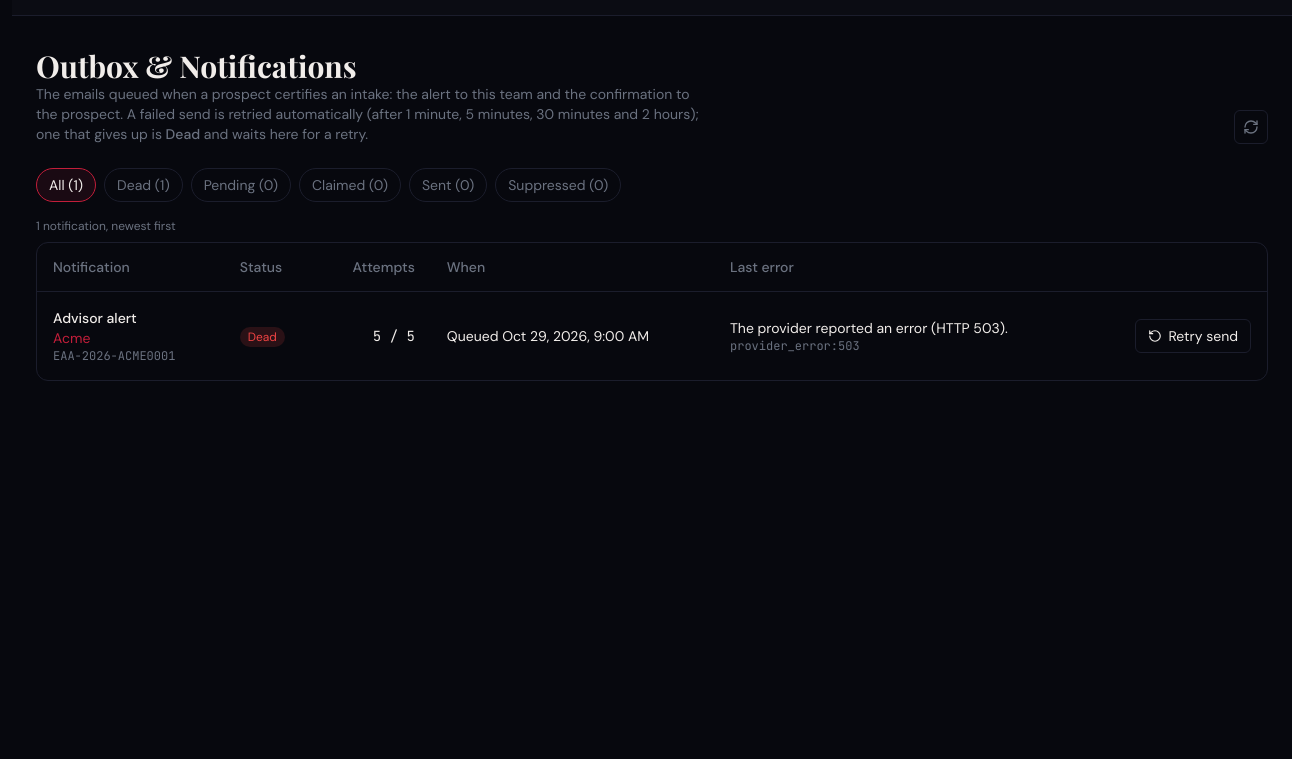
Test case: AdvisorOutboxPage › filters by dead, and keeps the filter in the URL
Check: the link "Acme" is shown, box [53,328,90,346]
Click the button "Dead (1)": x=143, y=185 [104,168,183,202]
(page scrolled)
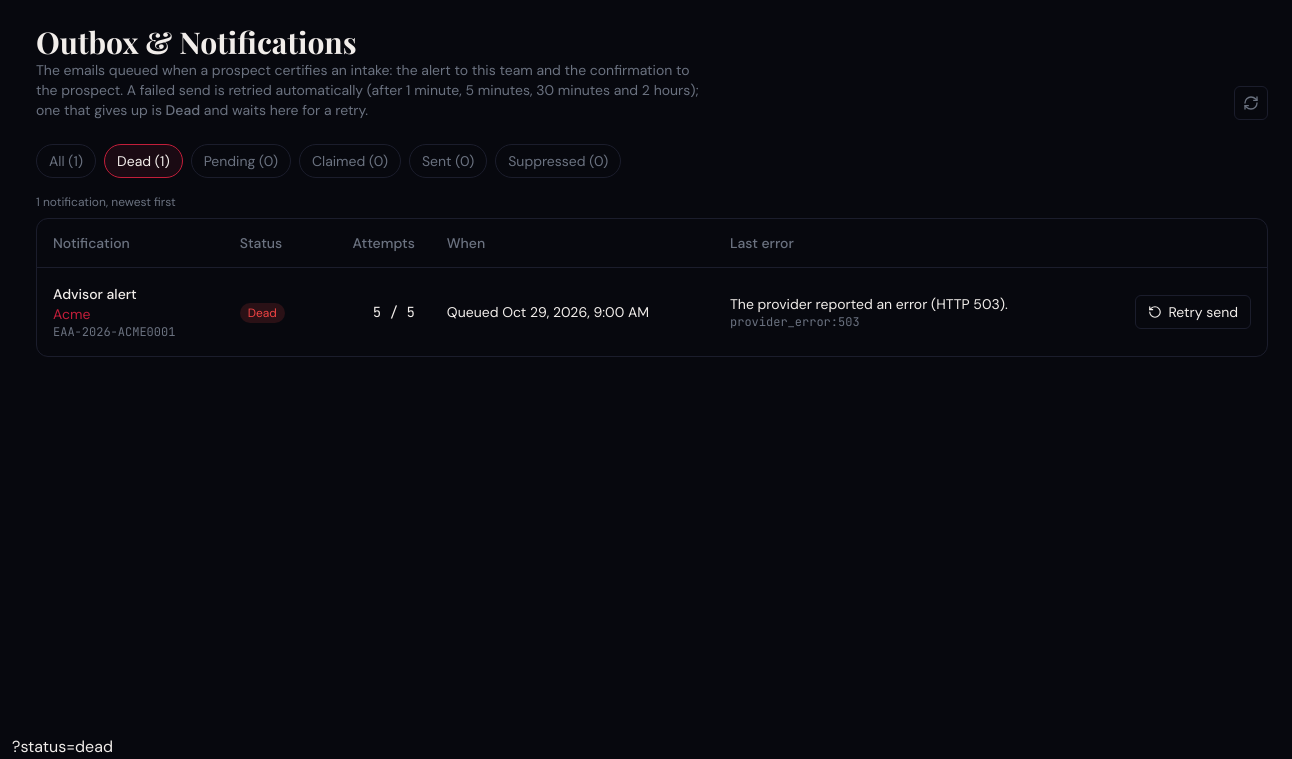
Check: the text with test id "where" reads "?status=dead", box [12,736,113,757]
